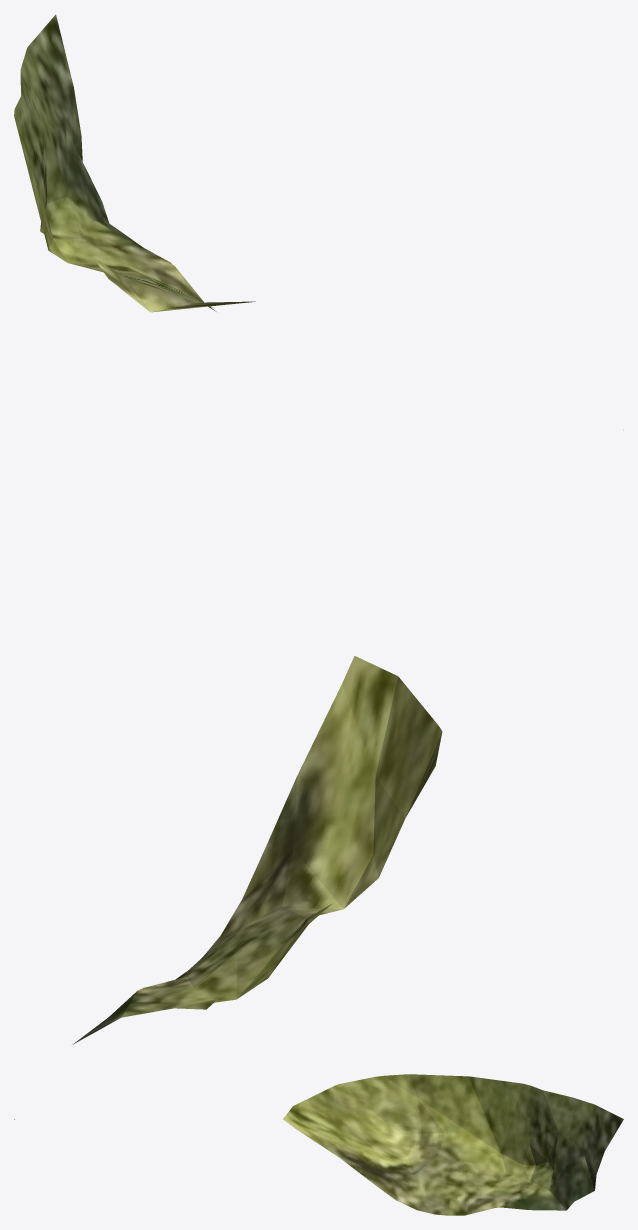
3 renders of one model, top to bottom at view 1: azimuth 30°, elevation 25°; view 2: azimuth 150°, elevation 25°; view 3: azimuth 270°, elevation 25°, orthographic. The views are drawn at different scales.
Size of the model in its own units: 1.01 by 1.01 by 5.78.
1 material, 1 textured.
